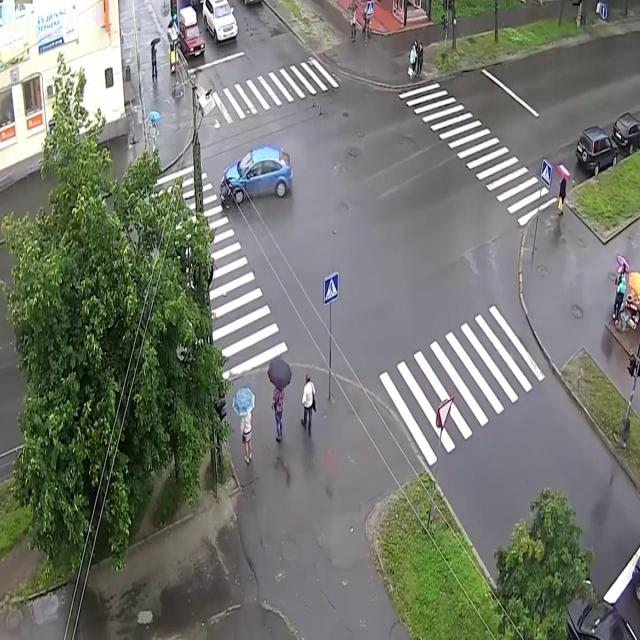accident: (213, 138, 299, 216)
